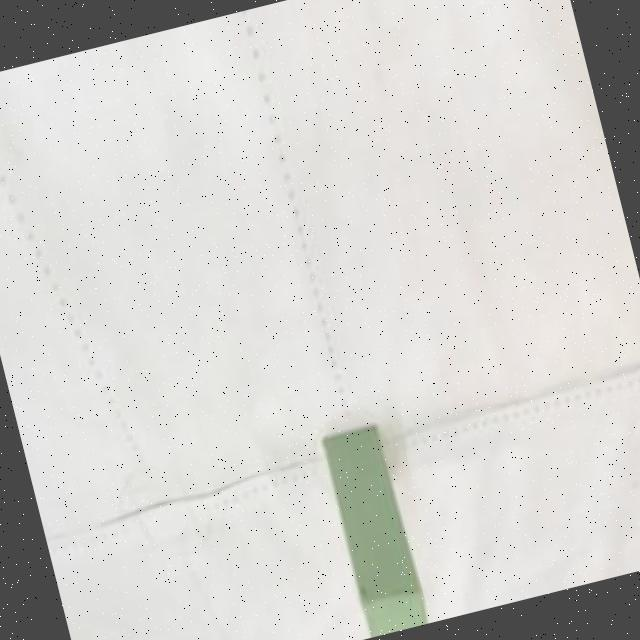greenbox: (318, 427, 426, 638)
